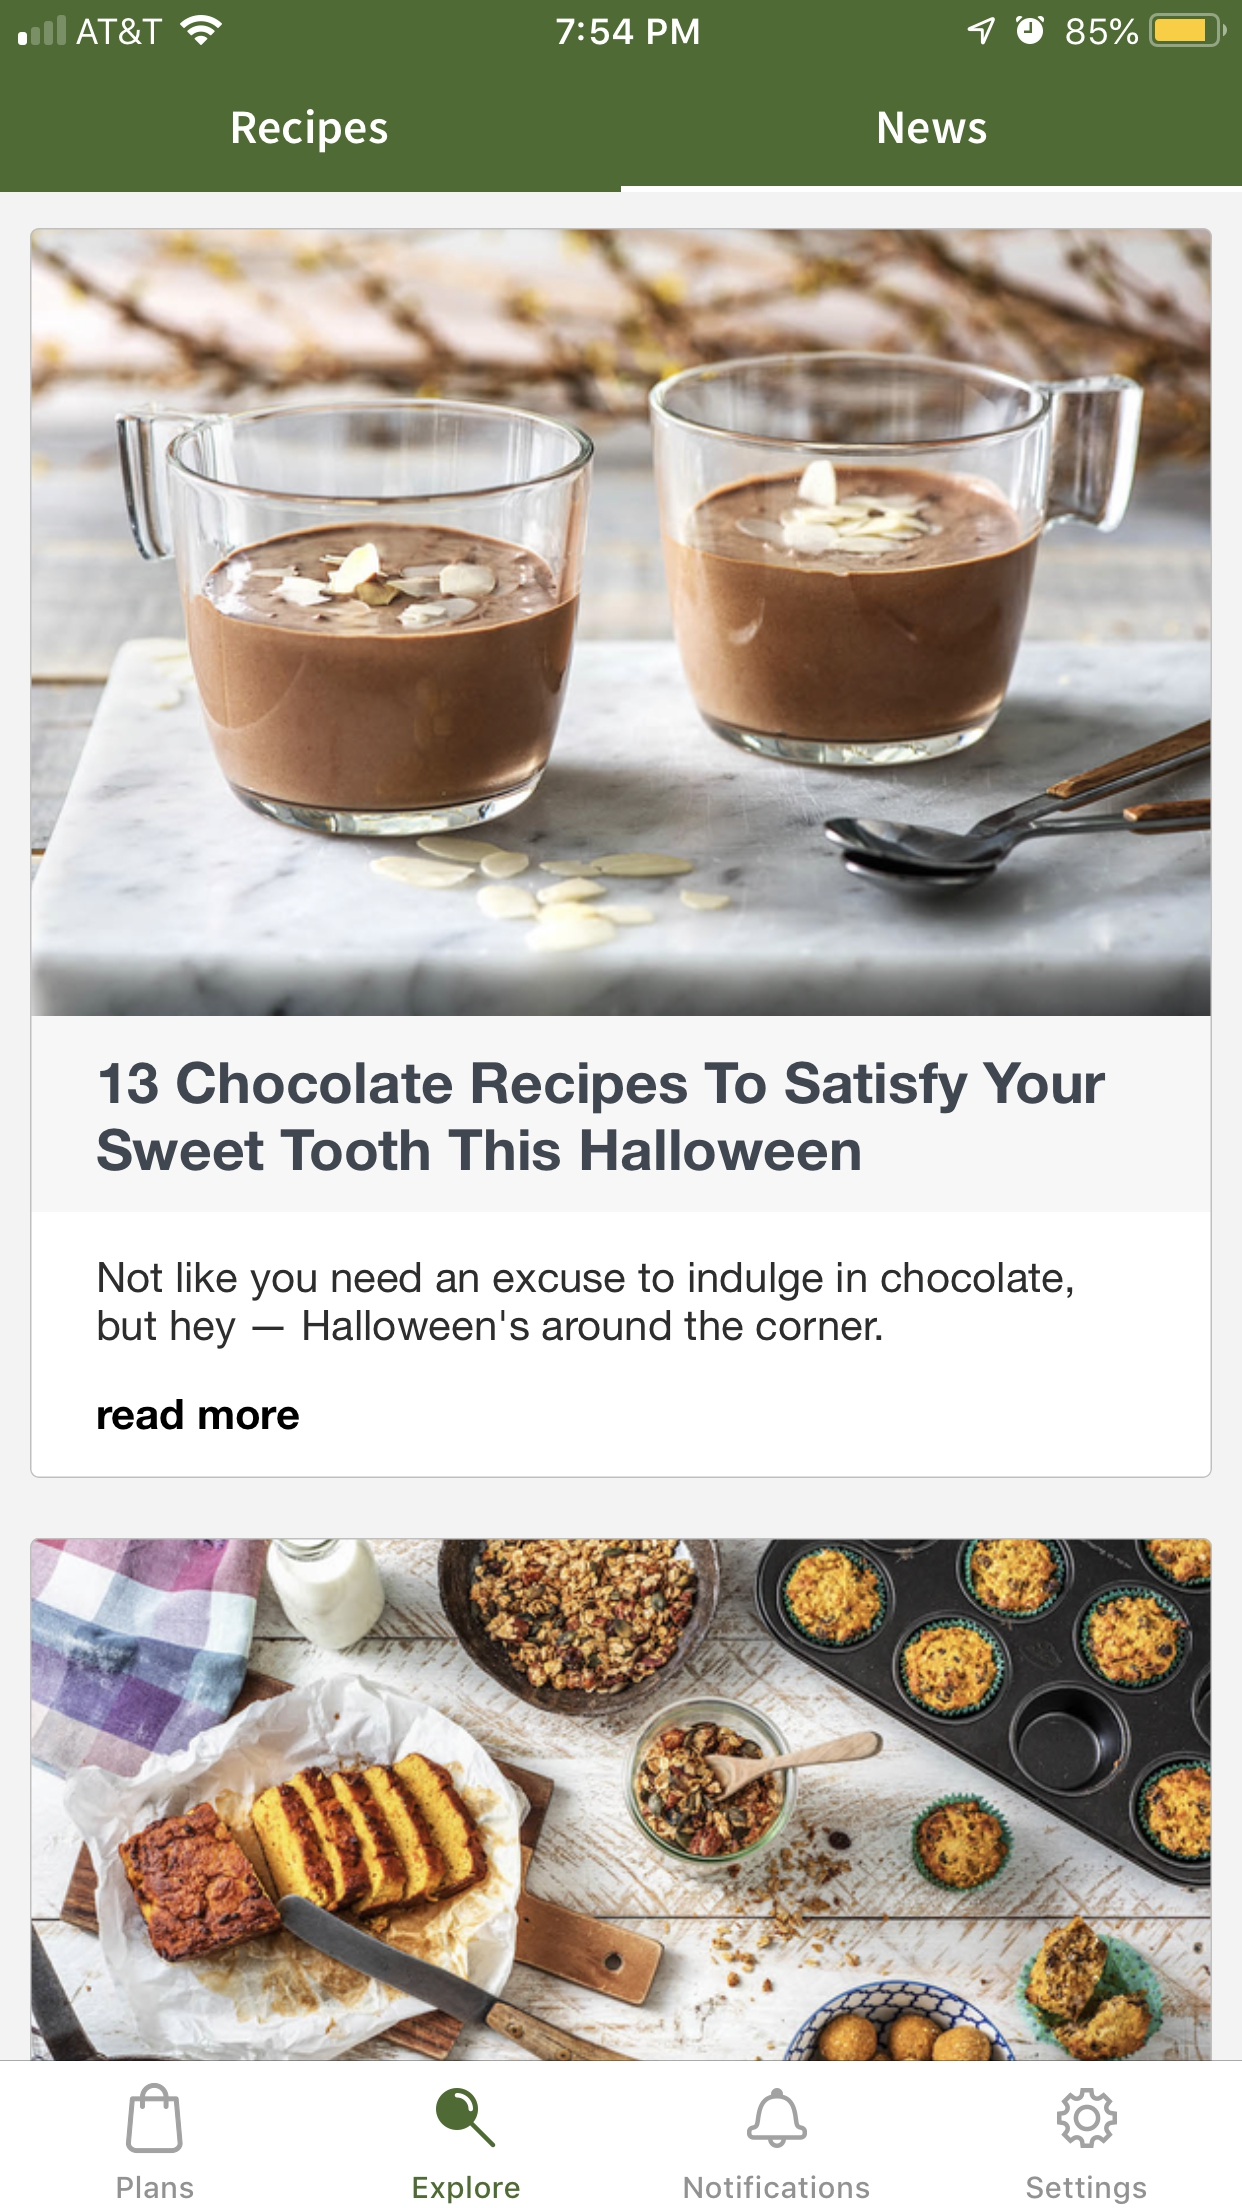Icon: (126, 2082, 185, 2153), (748, 2088, 808, 2149), (1057, 2088, 1118, 2149), (437, 2088, 496, 2147)
Image: (32, 231, 1210, 1018), (32, 1541, 1210, 2059)
Text: (97, 1062, 1106, 1172), (99, 1262, 1074, 1350), (234, 109, 390, 155), (99, 1398, 300, 1432), (684, 2175, 870, 2199), (878, 111, 987, 146), (1027, 2175, 1146, 2205), (414, 2175, 522, 2203), (117, 2175, 194, 2199)
UpperTaskBar: (2, 2, 1242, 49)
